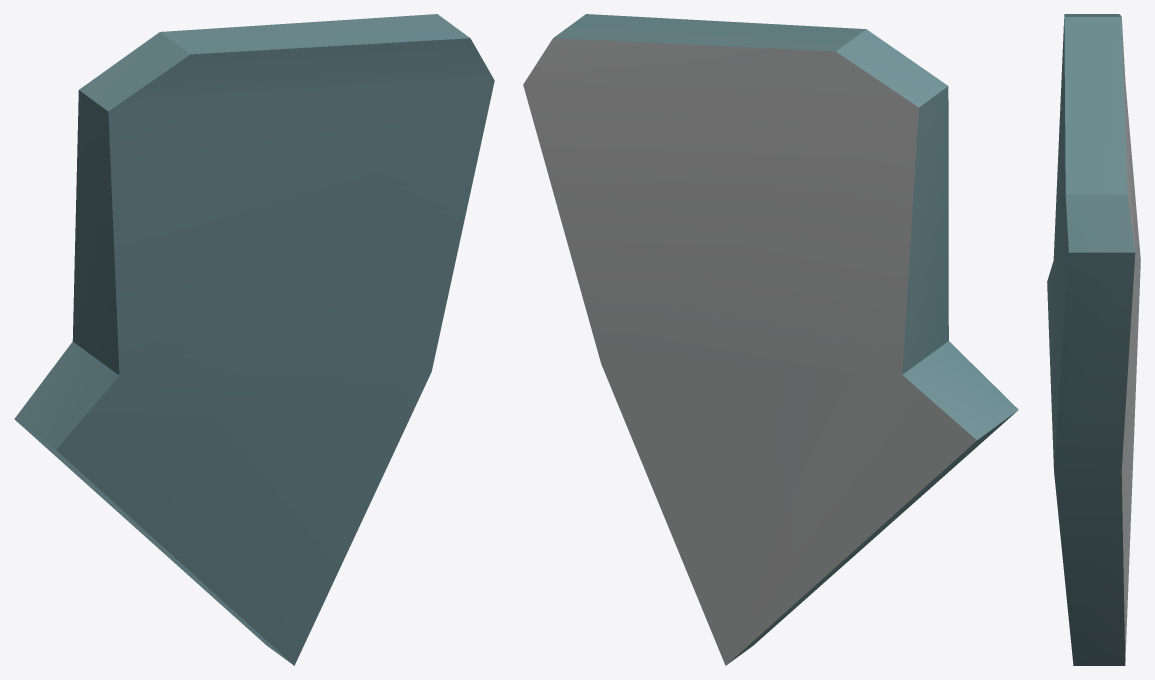
File: IceDrift.012.glb
3 views of the same model, side by side, from view 1: azimuth 30°, elevation 25°; view 2: azimuth 150°, elevation 25°; view 3: azimuth 270°, elevation 25° (orthographic). The views are drawn at different scales.
Parts seen in each view (by area): view 1: IceDrift.012; view 2: IceDrift.012; view 3: IceDrift.012.
Part boxes in pixels (x1,y1,x2,y2): IceDrift.012: [14, 14, 494, 665]; IceDrift.012: [523, 14, 1018, 665]; IceDrift.012: [1047, 14, 1140, 665].
Bounding box in the file's own units: 242 × 330 × 46.76.
